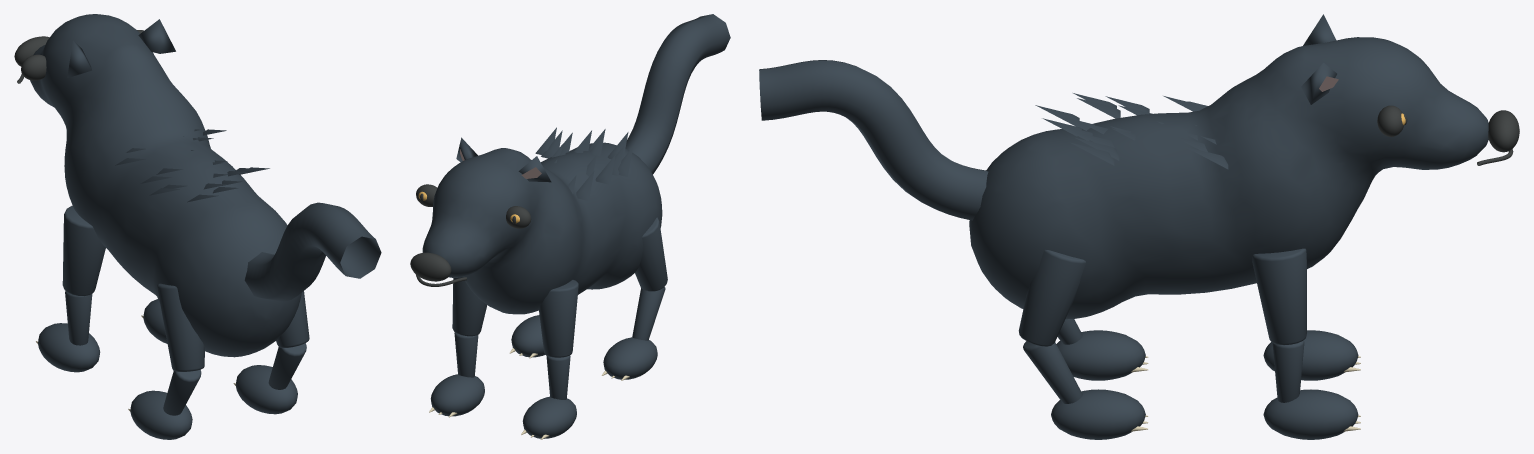
The model's file is dire_wolf.glb.
3 renders of one model, left to right at view 1: azimuth 30°, elevation 25°; view 2: azimuth 150°, elevation 25°; view 3: azimuth 270°, elevation 25°, orthographic. The views are drawn at different scales.
Parts seen in each view (by area): view 1: Sculpted anatomy, Flowing tail, Upper leg, Upper leg.001, Paw.001, Paw, Paw.003, Lower leg, Lower leg.001, Lower leg.003, Upper leg.003, Pointed ear.001 (+4 smaller); view 2: Sculpted anatomy, Flowing tail, Upper leg, Paw.001, Paw.002, Paw, Upper leg.001, Upper leg.002, Lower leg.001, Paw.003, Wet nose, Lower leg (+4 smaller); view 3: Sculpted anatomy, Flowing tail, Upper leg.002, Upper leg.003, Paw.003, Paw.002, Paw.001, Paw, Lower leg.003, Lower leg.002, Wet nose.
Boxes of the visible parts, box(x1,y1,x2,y2) form: Sculpted anatomy: box(30, 14, 301, 357); Flowing tail: box(244, 202, 381, 301); Upper leg: box(62, 205, 105, 296); Upper leg.001: box(157, 283, 204, 371); Paw.001: box(130, 390, 192, 439); Paw: box(38, 323, 100, 372); Paw.003: box(235, 365, 297, 414); Lower leg: box(65, 291, 92, 345); Lower leg.001: box(163, 370, 201, 415); Lower leg.003: box(268, 343, 306, 389); Upper leg.003: box(276, 291, 309, 347); Pointed ear.001: box(138, 19, 175, 53); Sculpted anatomy: box(422, 142, 662, 314); Flowing tail: box(625, 14, 730, 174); Upper leg: box(538, 280, 578, 357); Paw.001: box(603, 337, 657, 379); Paw.002: box(430, 374, 484, 416); Paw: box(522, 396, 576, 438); Upper leg.001: box(635, 217, 667, 291); Upper leg.002: box(452, 277, 487, 336); Lower leg.001: box(632, 287, 665, 340); Paw.003: box(511, 315, 545, 357); Wet nose: box(410, 252, 451, 281); Lower leg: box(546, 355, 570, 399); Sculpted anatomy: box(969, 37, 1488, 319); Flowing tail: box(759, 60, 988, 220); Upper leg.002: box(1252, 248, 1306, 345); Upper leg.003: box(1018, 250, 1085, 346); Paw.003: box(1051, 389, 1145, 439); Paw.002: box(1263, 389, 1358, 439); Paw.001: box(1056, 330, 1145, 380); Paw: box(1263, 330, 1358, 380); Lower leg.003: box(1023, 341, 1082, 403); Lower leg.002: box(1272, 340, 1304, 402); Wet nose: box(1488, 110, 1519, 152).
Size of the model in its own units: 0.81 by 1.62 by 3.04.
